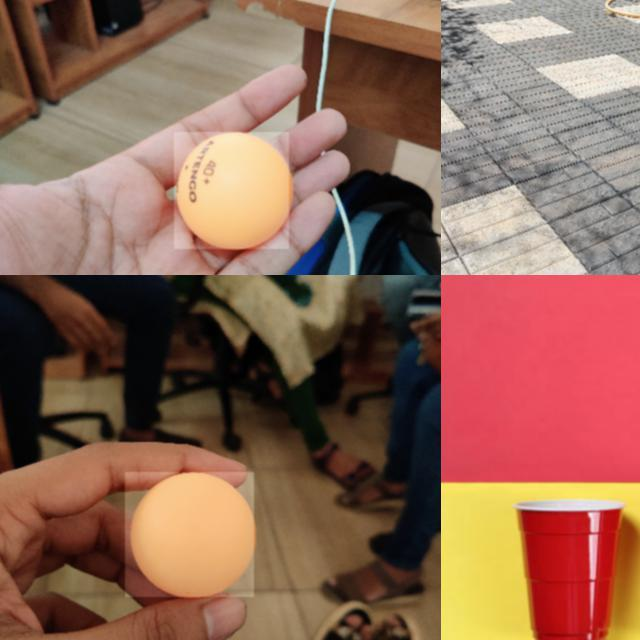ping-pong-ball: (125, 472, 255, 598), (174, 132, 290, 250)
